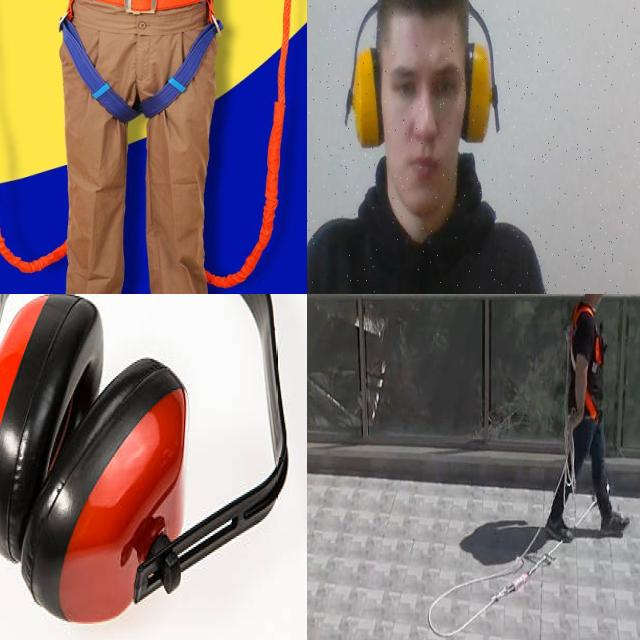Ear-protection: (0, 294, 295, 626), (346, 0, 504, 218)
Harness: (57, 0, 218, 126), (570, 302, 606, 420)
No_Glasses: (387, 53, 464, 114)
